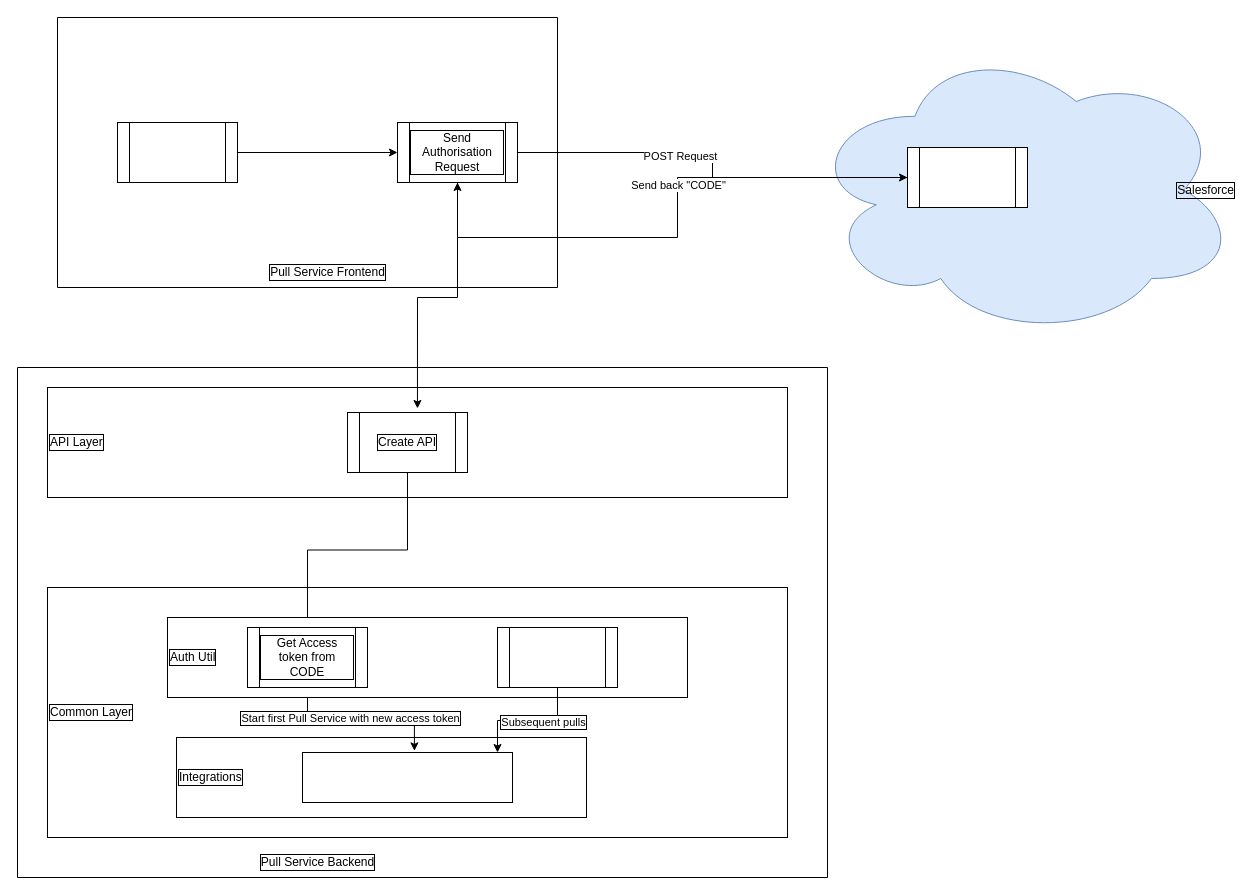
Some shapes in this 1255 by 895 pixel diagram are drawn without their labels. Here are the shapes that lost their labels. From the top down, the centre of each, then its label:
(177,152): Configure pull service
(967,177): Authorise connected APP
(557,657): Get Access token from JWT when scheduler runs
(407,777): Copado CI/CD Integration
